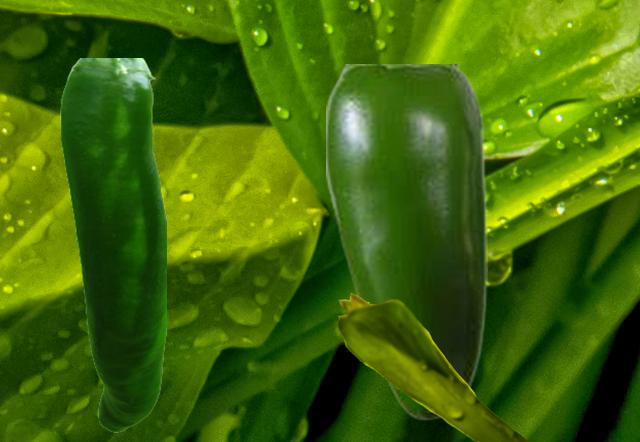green_chili: (326, 64, 486, 420), (60, 58, 165, 431)
